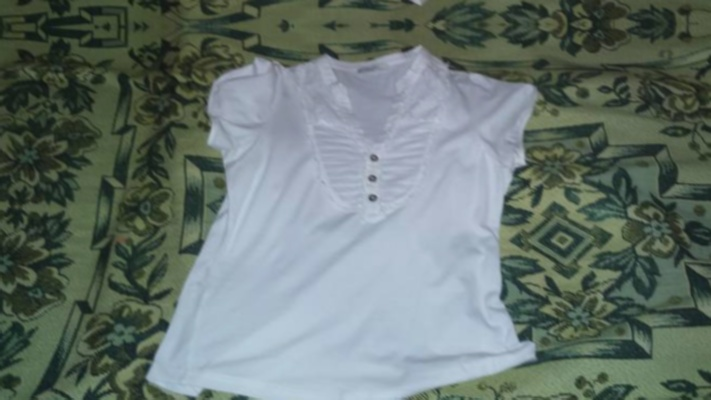Blouse: (137, 36, 554, 400), (134, 0, 552, 15)
